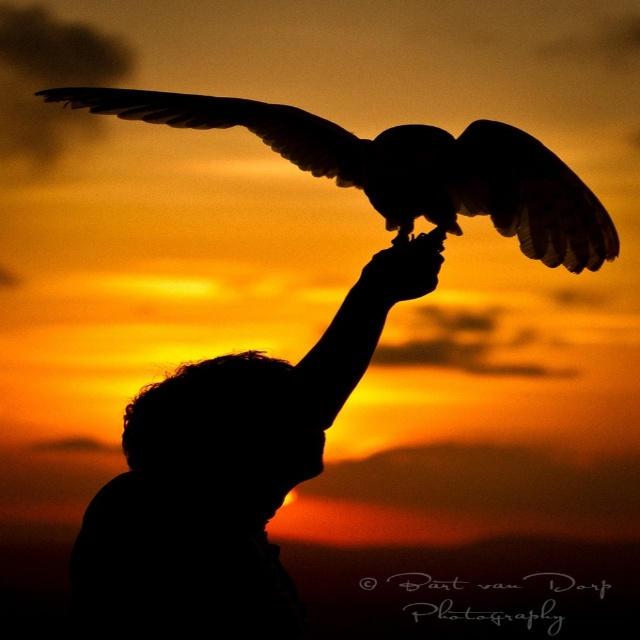Eagle: (29, 84, 628, 275)
